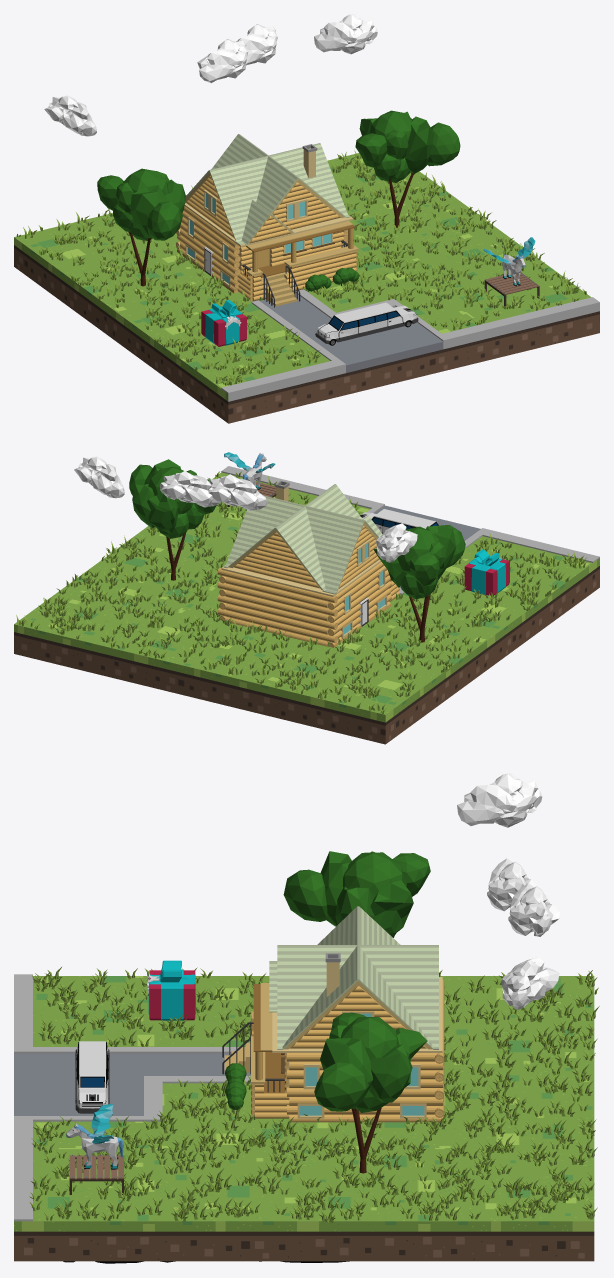
3 views of the same model, one above another, from view 1: azimuth 30°, elevation 25°; view 2: azimuth 150°, elevation 25°; view 3: azimuth 270°, elevation 25° (orthographic). The views are drawn at different scales.
Parts seen in each view (by area): view 1: Cube.006, Cube.1516, Circle.012_Grass_0.192, Cube.007, tree, tree.001, VEHICLES_LIMOUSINE, OBJRANDOM_GIANT_PRESENT, ANIMAL_PEGASO, Cube.009; view 2: Cube.006, Cube.1516, Circle.012_Grass_0.192, Cube.007, tree.001, tree, OBJRANDOM_GIANT_PRESENT, VEHICLES_LIMOUSINE, ANIMAL_PEGASO; view 3: Cube.006, Circle.012_Grass_0.192, Cube.1516, tree, Cube.007, tree.001, OBJRANDOM_GIANT_PRESENT, VEHICLES_LIMOUSINE, ANIMAL_PEGASO, Cube.009.
Part boxes in pixels (x1,y1,x2,y2): Cube.006: (14,153,599,423); Cube.1516: (176,134,358,307); Circle.012_Grass_0.192: (16,150,586,385); Cube.007: (44,14,377,136); tree: (355,110,460,227); tree.001: (97,168,185,286); VEHICLES_LIMOUSINE: (315,302,418,345); OBJRANDOM_GIANT_PRESENT: (201,300,246,346); ANIMAL_PEGASO: (483,237,535,286); Cube.009: (484,272,539,306); Cube.006: (14,466,599,744); Cube.1516: (217,480,399,647); Circle.012_Grass_0.192: (16,471,586,713); Cube.007: (74,456,417,562); tree.001: (373,524,465,642); tree: (129,459,216,580); OBJRANDOM_GIANT_PRESENT: (464,549,509,595); VEHICLES_LIMOUSINE: (360,509,438,533); ANIMAL_PEGASO: (224,452,275,489); Cube.006: (14,974,594,1261); Circle.012_Grass_0.192: (29,967,599,1222); Cube.1516: (222,906,444,1122); tree: (314,1012,427,1173); Cube.007: (457,773,559,1009); tree.001: (283,851,430,937); OBJRANDOM_GIANT_PRESENT: (147,960,195,1020); VEHICLES_LIMOUSINE: (75,1041,109,1113); ANIMAL_PEGASO: (66,1104,123,1169); Cube.009: (69,1154,123,1194).
Size of the model in its own units: 4071 by 2149 by 4040.
39 materials, 4 textured.
